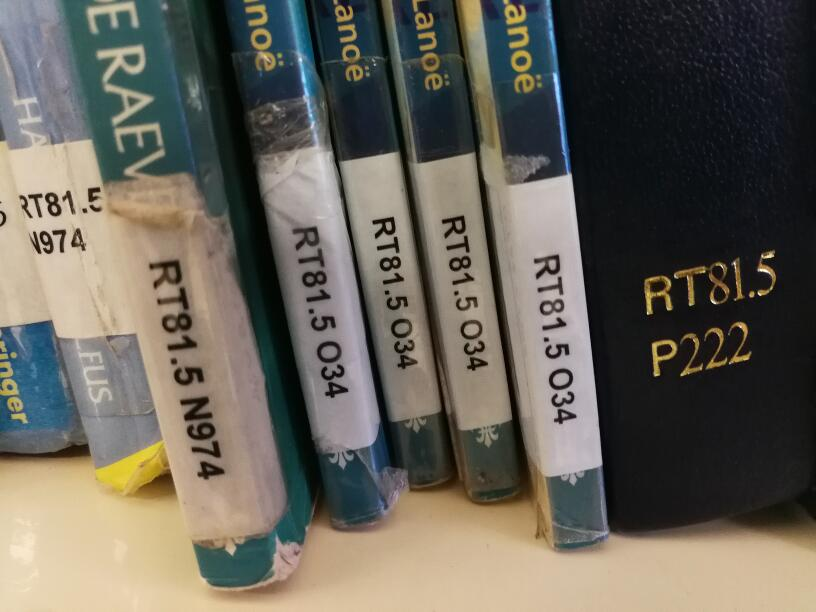booklabel: (638, 247, 780, 381), (144, 256, 227, 485), (285, 224, 352, 400), (527, 252, 580, 426), (436, 213, 491, 372), (368, 214, 421, 370), (17, 182, 112, 258)
